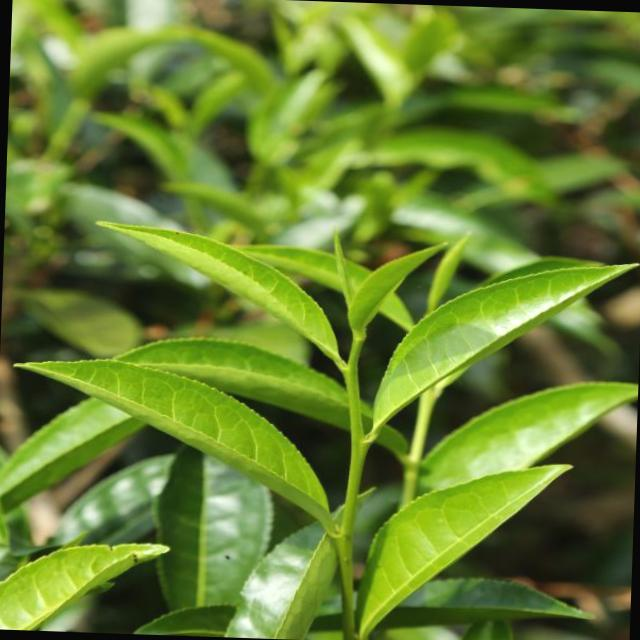Stem: (342, 365, 356, 378)
